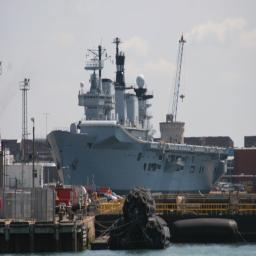Portanaves: (45, 25, 231, 206)
